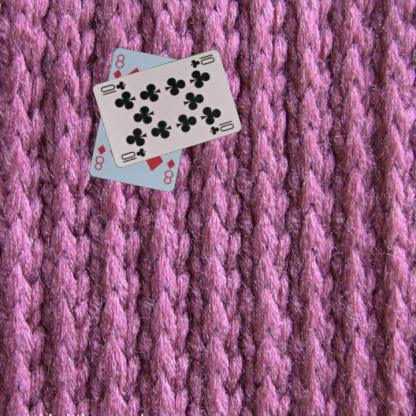10c: (118, 145, 147, 161), (188, 54, 216, 69)
8d: (110, 51, 126, 80), (161, 156, 176, 185)
